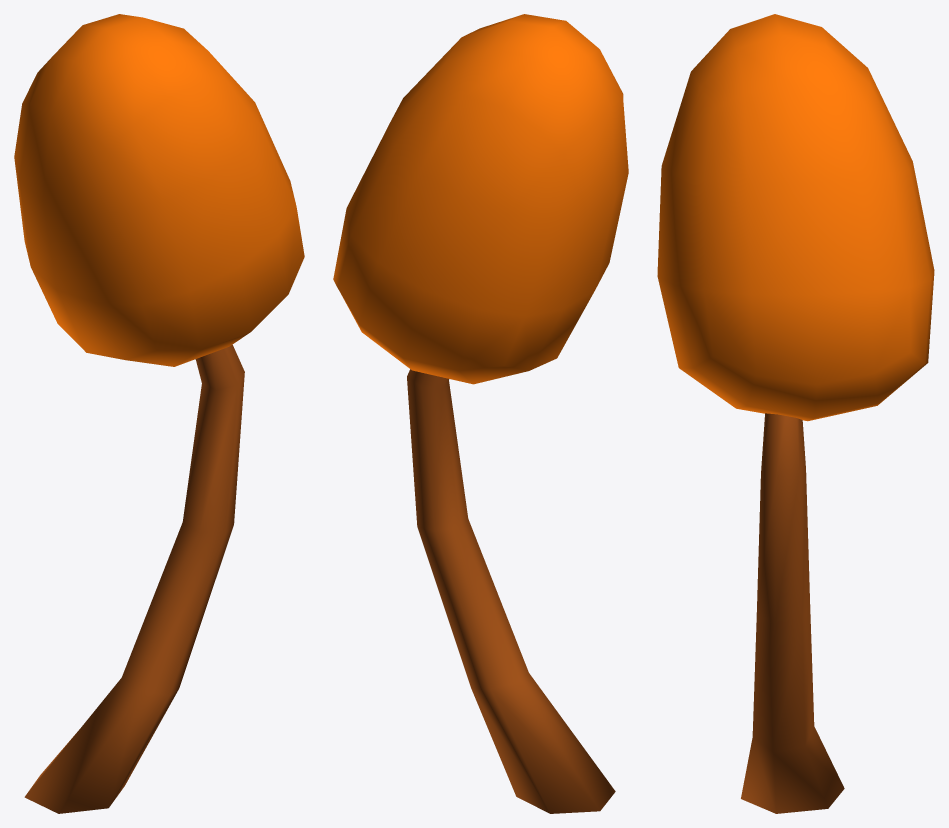
Rendered from Tree_30_Fall.fbx.
3 renders of one model, left to right at view 1: azimuth 30°, elevation 25°; view 2: azimuth 150°, elevation 25°; view 3: azimuth 270°, elevation 25°, orthographic. The views are drawn at different scales.
Visible parts, largest first — view 1: Tree_30_p2_Fall, Tree_30_p1_Fall; view 2: Tree_30_p2_Fall, Tree_30_p1_Fall; view 3: Tree_30_p2_Fall, Tree_30_p1_Fall.
Part boxes in pixels (x1,y1,x2,y2): Tree_30_p2_Fall: (14,14,304,366); Tree_30_p1_Fall: (24,344,244,813); Tree_30_p2_Fall: (333,14,628,384); Tree_30_p1_Fall: (407,369,615,813); Tree_30_p2_Fall: (657,14,934,421); Tree_30_p1_Fall: (741,413,844,813).
Size of the model in its own units: 173 by 498 by 158.
